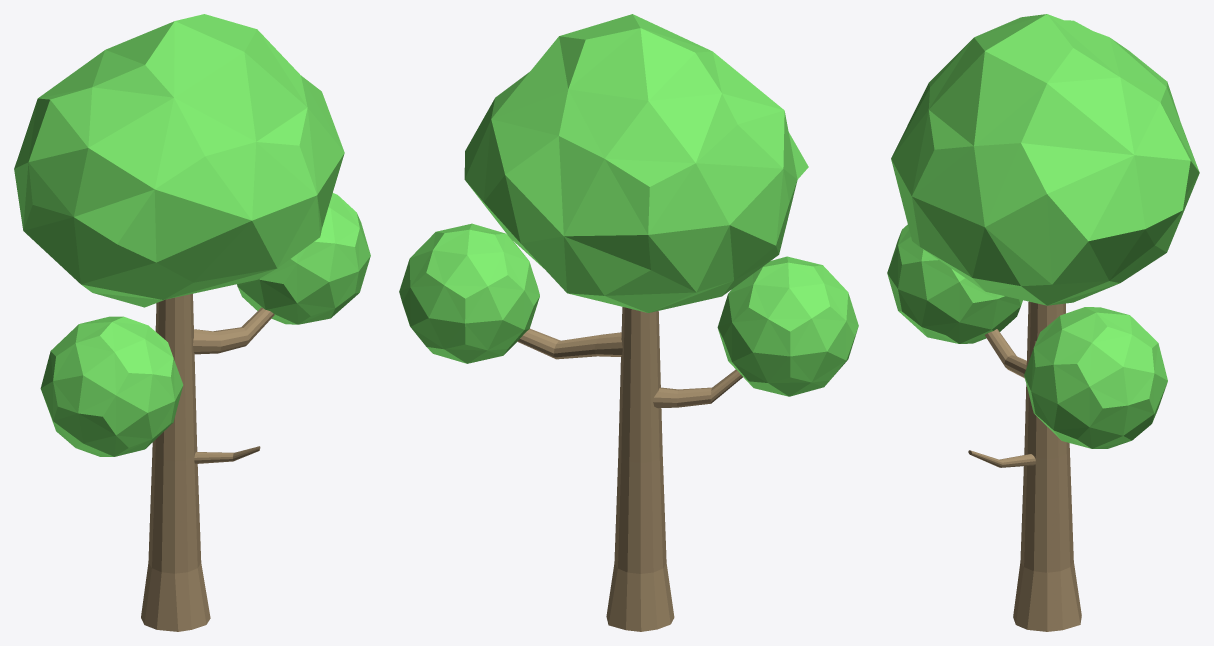
The model's file is Tree.fbx.
3 renders of one model, left to right at view 1: azimuth 30°, elevation 25°; view 2: azimuth 150°, elevation 25°; view 3: azimuth 270°, elevation 25°, orthographic. The views are drawn at different scales.
Visible parts, largest first — view 1: tree_009_green; view 2: tree_009_green; view 3: tree_009_green.
Part boxes in pixels (x1,y1,x2,y2): tree_009_green: (14,14,370,631); tree_009_green: (399,14,858,631); tree_009_green: (887,14,1199,631).
Bounding box in the file's own units: 3.92 × 5.92 × 2.78.
